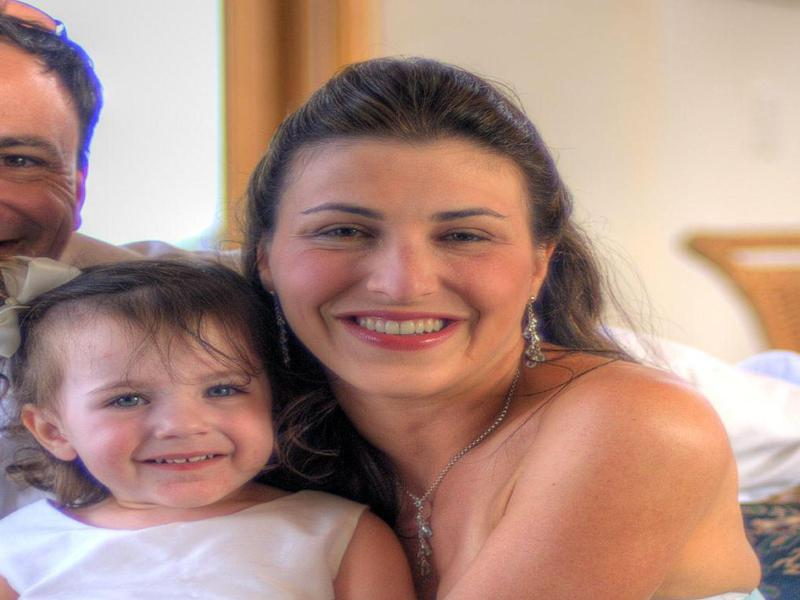person: (249, 51, 777, 596), (1, 249, 416, 600), (1, 2, 174, 262)
